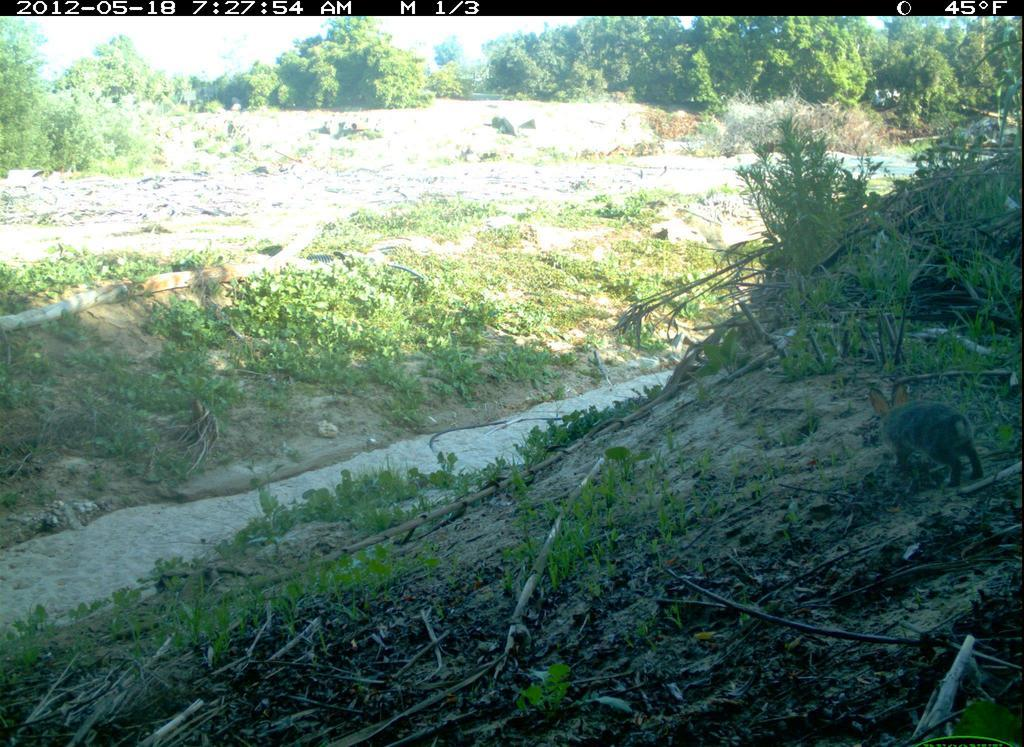rabbit: (866, 374, 993, 497)
